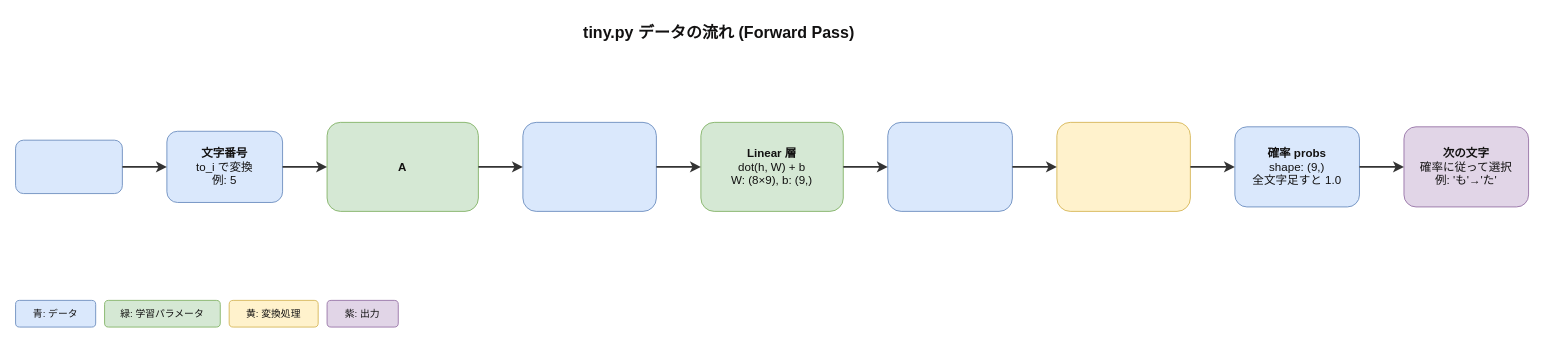
Some shapes in this 1544 by 343 pixel diagram are drawn without their labels. Each missing label, with the centre of its shape:
logits shape: (9,) 各文字の なりやすさスコア: (949,166)
softmax exp ÷ 合計 スコアを確率に変換: (1123,166)
入力文字 例: 'も': (68,166)
特徴ベクトル h shape: (8,) 文字の意味を表す 8個の数値: (589,166)
